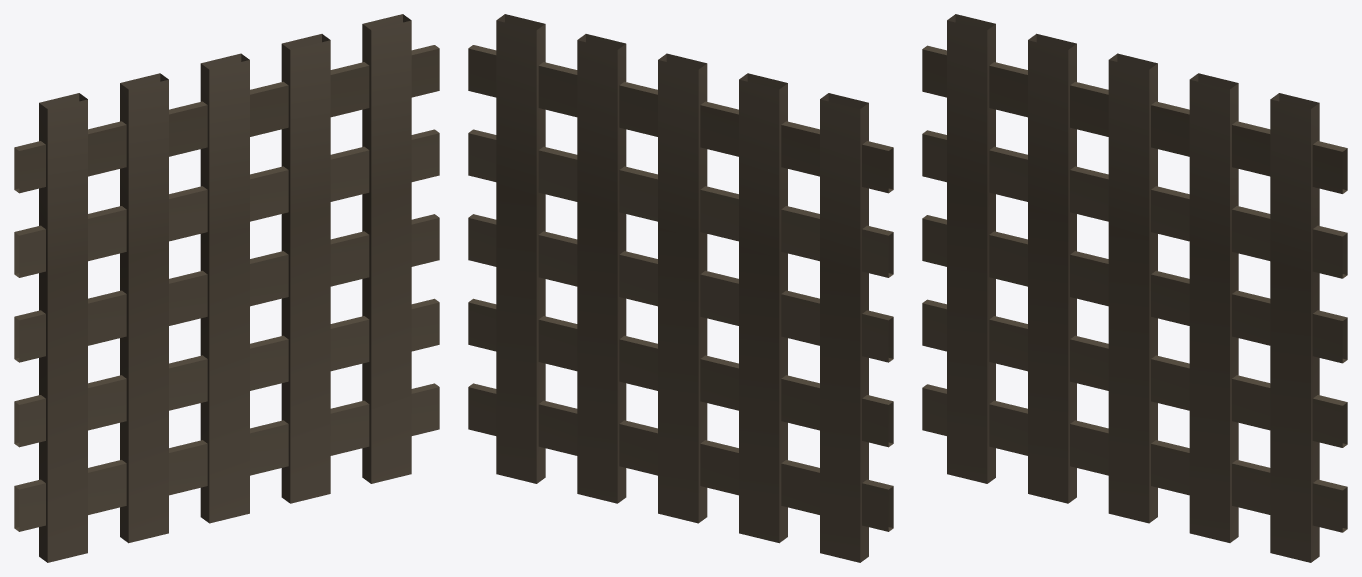
Rendered from Gate.fbx.
3 views of the same model, side by side, from view 1: azimuth 30°, elevation 25°; view 2: azimuth 150°, elevation 25°; view 3: azimuth 330°, elevation 25° (orthographic).
Parts seen in each view (by area): view 1: Gate; view 2: Gate; view 3: Gate.
Part boxes in pixels (bbox=[...]): Gate: bbox=[14, 14, 439, 562]; Gate: bbox=[468, 14, 893, 562]; Gate: bbox=[922, 14, 1347, 562].
Bounding box in the file's own units: 208 × 214 × 7.5.
